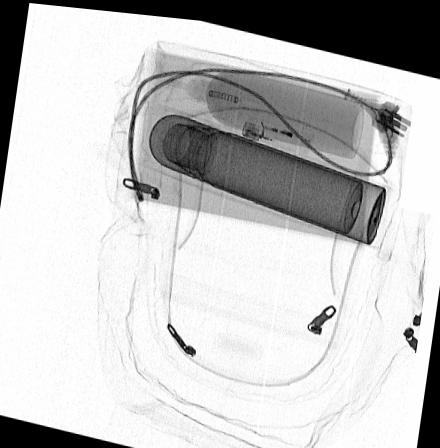Lighter: (241, 110, 313, 150)
